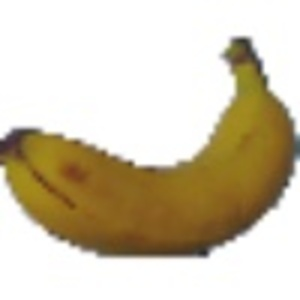banana: (2, 31, 298, 263)
